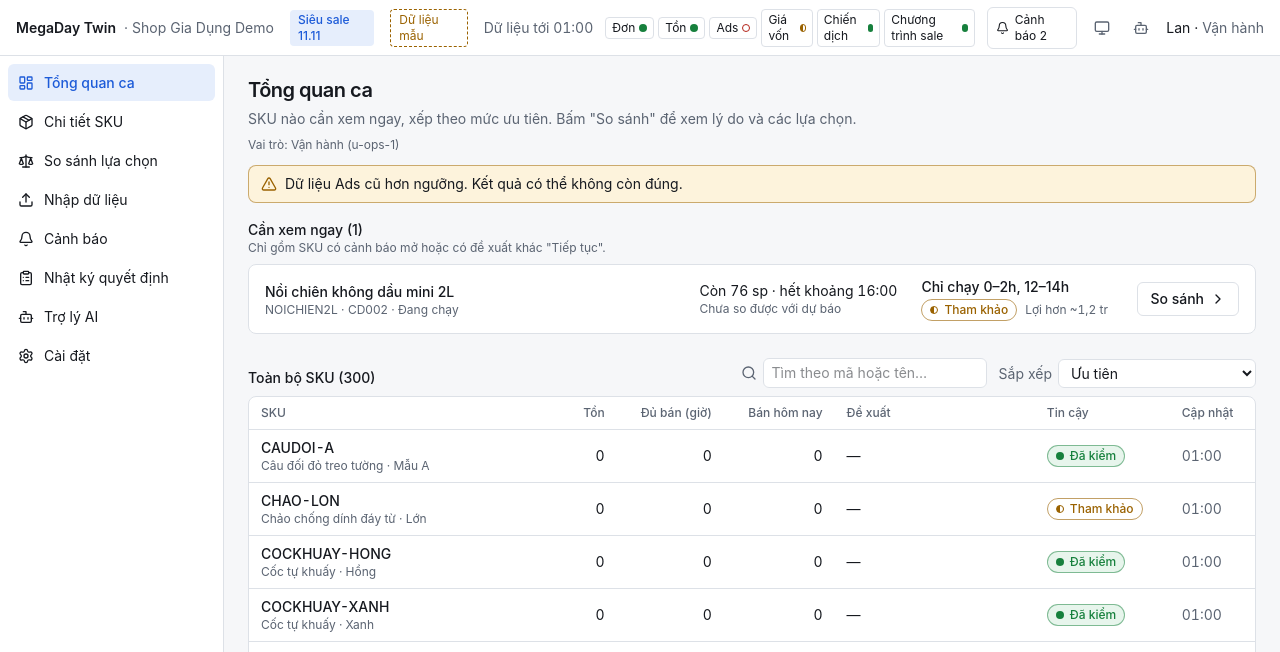
it: App shell + Shift overview (fixture mode) › navigates to a placeholder screen with title and empty state
Click the link "Nhật ký quyết định" at [93, 278], box [18, 269, 169, 286]
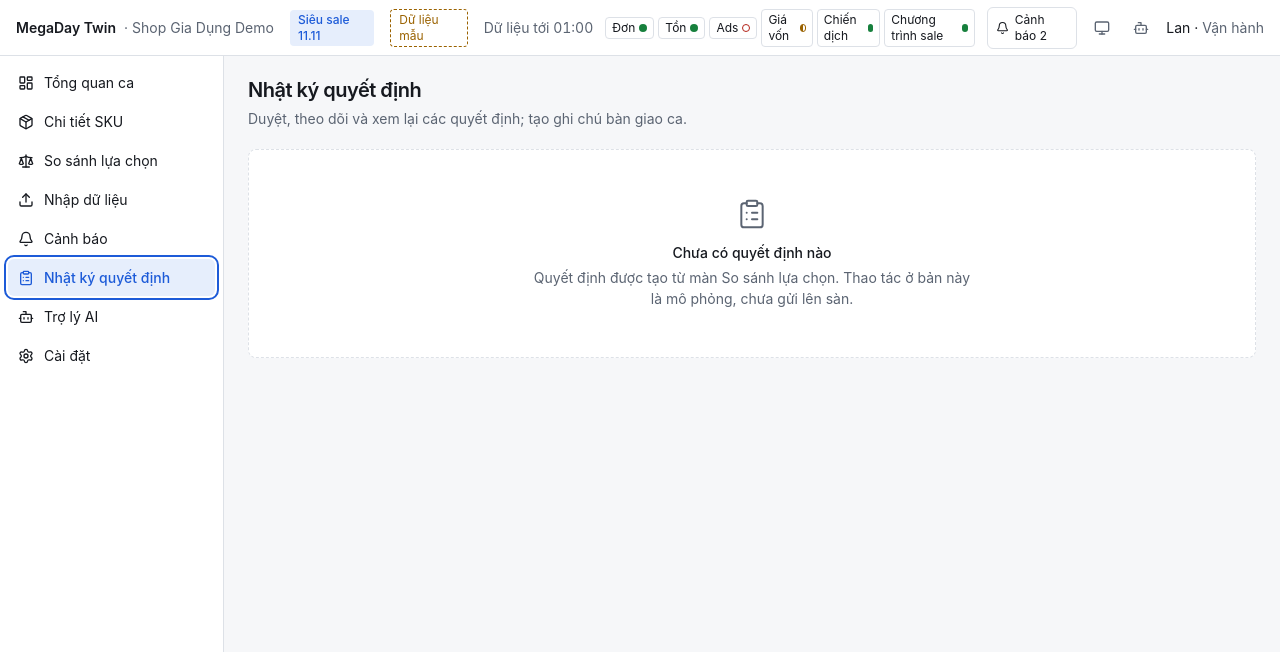
Expected: the heading "Nhật ký quyết định" is shown, [248, 78, 421, 102]
Expected: the heading "Chưa có quyết định nào" is shown, [672, 242, 832, 263]
